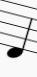note: (6, 1, 34, 59)
